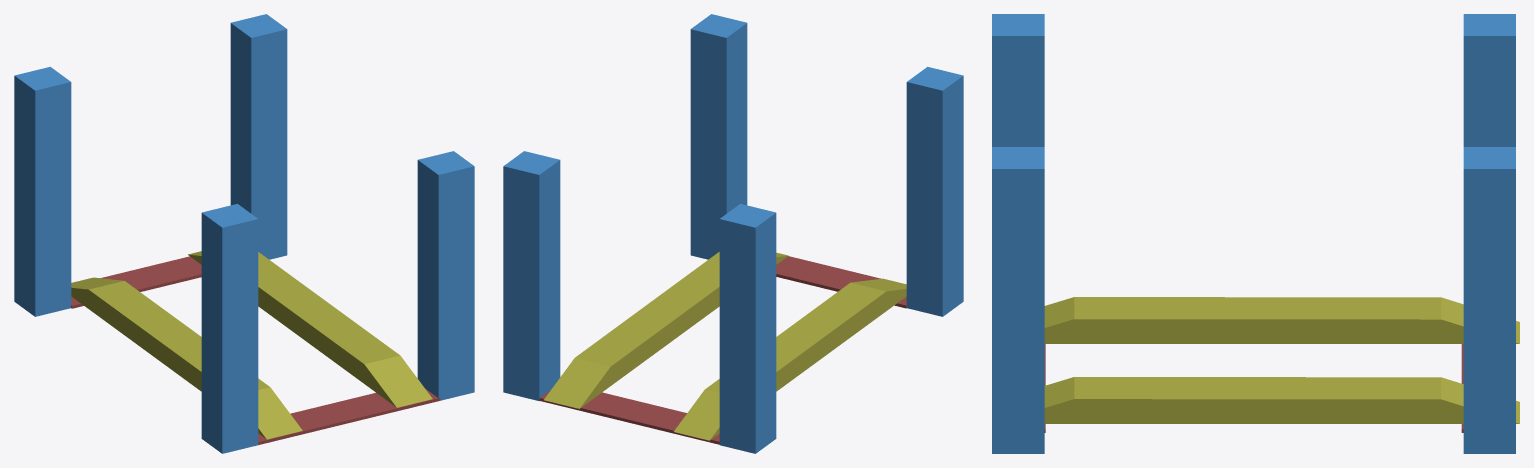
The model's file is Elevateur_Hydrolique_de_Garage.fbx.
3 views of the same model, side by side, from view 1: azimuth 30°, elevation 25°; view 2: azimuth 150°, elevation 25°; view 3: azimuth 270°, elevation 25° (orthographic). The views are drawn at different scales.
Parts seen in each view (by area): view 1: pCube1, pCube2, pCube3, pCube4, pCube6, pCube5, pCube7, pCube8; view 2: pCube2, pCube1, pCube4, pCube3, pCube6, pCube5, pCube8, pCube7; view 3: pCube6, pCube5, pCube3, pCube4, pCube2, pCube1.
Boxes of the visible parts, x1=… form: pCube1: x1=14, y1=66, x2=71, y2=316; pCube2: x1=201, y1=204, x2=258, y2=453; pCube3: x1=417, y1=151, x2=474, y2=400; pCube4: x1=230, y1=14, x2=287, y2=259; pCube6: x1=188, y1=251, x2=432, y2=407; pCube5: x1=71, y1=277, x2=302, y2=439; pCube7: x1=258, y1=388, x2=440, y2=444; pCube8: x1=71, y1=256, x2=201, y2=308; pCube2: x1=906, y1=66, x2=963, y2=316; pCube1: x1=719, y1=204, x2=776, y2=453; pCube4: x1=503, y1=151, x2=560, y2=401; pCube3: x1=690, y1=14, x2=747, y2=259; pCube6: x1=544, y1=252, x2=788, y2=408; pCube5: x1=674, y1=278, x2=906, y2=440; pCube8: x1=539, y1=390, x2=719, y2=444; pCube7: x1=776, y1=256, x2=906, y2=308; pCube6: x1=1044, y1=377, x2=1519, y2=423; pCube5: x1=1044, y1=297, x2=1519, y2=343; pCube3: x1=992, y1=147, x2=1044, y2=453; pCube4: x1=1463, y1=147, x2=1515, y2=453; pCube2: x1=992, y1=14, x2=1044, y2=146; pCube1: x1=1463, y1=14, x2=1515, y2=146.
Bounding box in the file's own units: 3.5 × 3 × 5.04.
